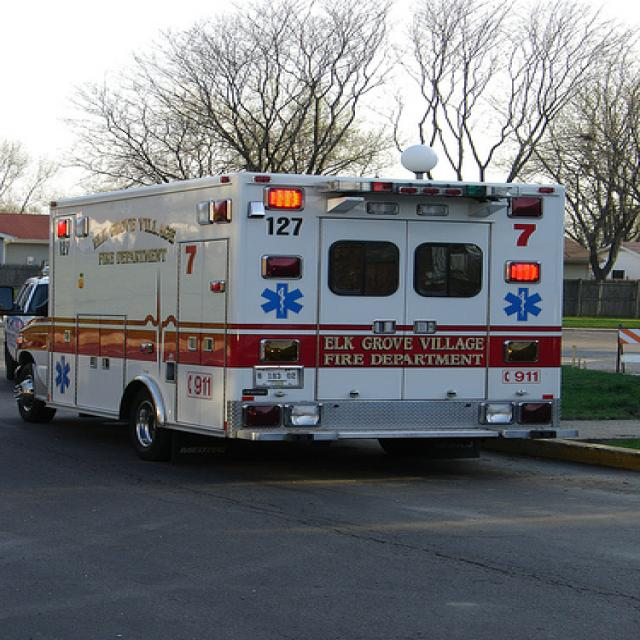emergency-vehicle: (12, 172, 572, 471)
